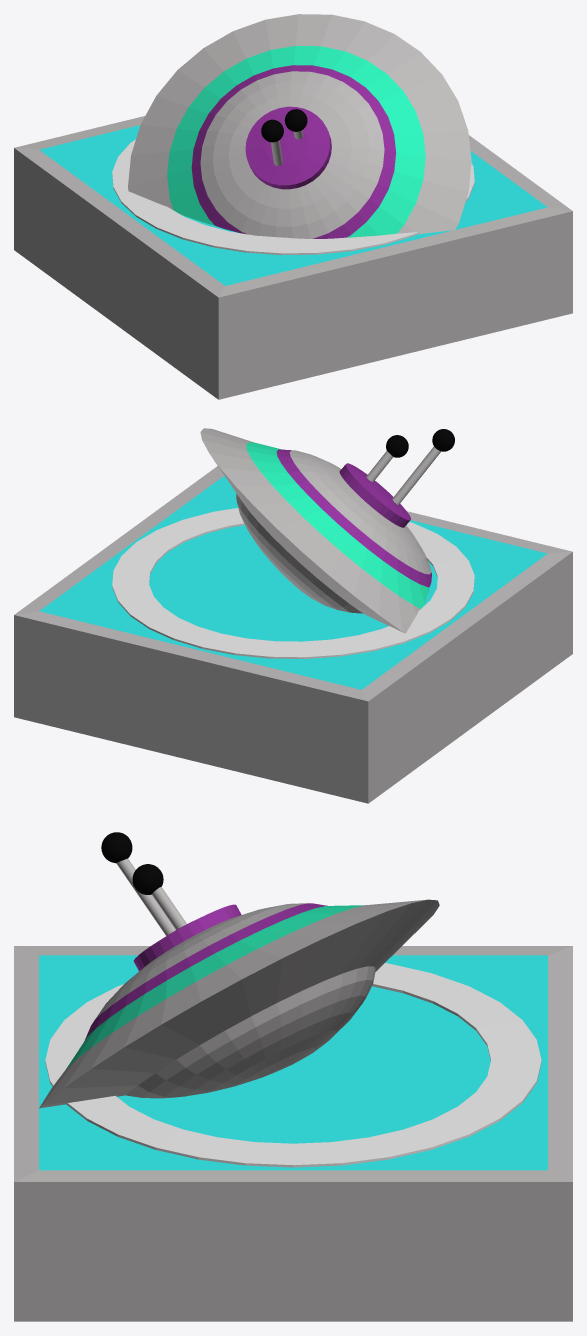
The model's file is UFOTile.fbx.
The picture shows the model from 3 angles, top to bottom: view 1: azimuth 30°, elevation 25°; view 2: azimuth 150°, elevation 25°; view 3: azimuth 270°, elevation 25°; orthographic projection. The views are drawn at different scales.
Visible parts, largest first — view 1: Cube, Sphere, Cylinder; view 2: Cube, Sphere, Cylinder, Cylinder.002; view 3: Cube, Sphere, Cylinder, Cylinder.002, Sphere.001, Sphere.002.
Boxes of the visible parts, left/top/right/bottom form: Cube: left=14, top=116, right=572, bottom=399; Sphere: left=128, top=14, right=471, bottom=238; Cylinder: left=112, top=139, right=474, bottom=255; Cube: left=14, top=466, right=572, bottom=803; Sphere: left=200, top=428, right=431, bottom=633; Cylinder: left=112, top=508, right=474, bottom=658; Cylinder.002: left=392, top=446, right=441, bottom=505; Cube: left=14, top=946, right=572, bottom=1321; Sphere: left=39, top=899, right=439, bottom=1108; Cylinder: left=45, top=963, right=541, bottom=1167; Cylinder.002: left=116, top=858, right=175, bottom=935; Sphere.001: left=101, top=832, right=132, bottom=863; Sphere.002: left=132, top=864, right=163, bottom=894.
Size of the model in its own units: 200 by 127 by 200.
